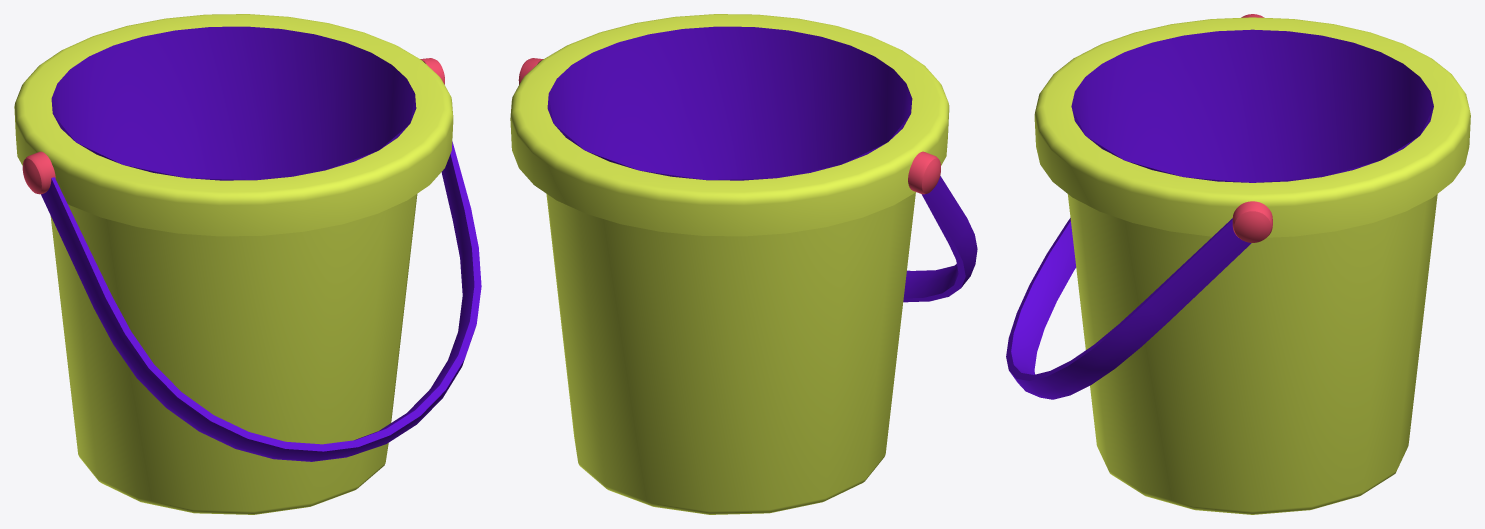
The model's file is Bucket.fbx.
3 views of the same model, side by side, from view 1: azimuth 30°, elevation 25°; view 2: azimuth 150°, elevation 25°; view 3: azimuth 270°, elevation 25° (orthographic).
Parts seen in each view (by area): view 1: Bucket; view 2: Bucket; view 3: Bucket.
Part boxes in pixels (bbox=[...]): Bucket: bbox=[14, 14, 481, 514]; Bucket: bbox=[510, 14, 977, 514]; Bucket: bbox=[1006, 14, 1470, 514].
Size of the model in its own units: 24.86 by 20 by 24.4.
